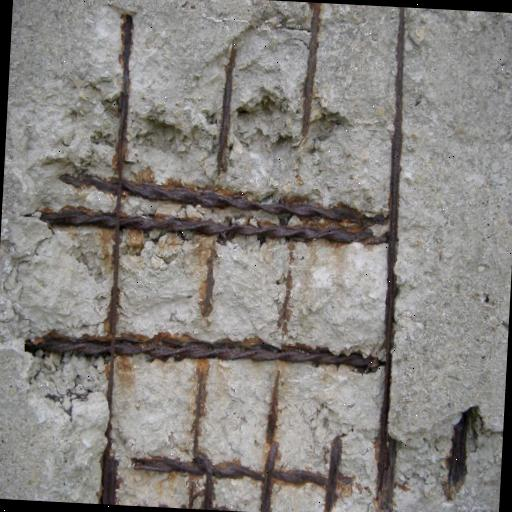spalling: (19, 4, 495, 510)
